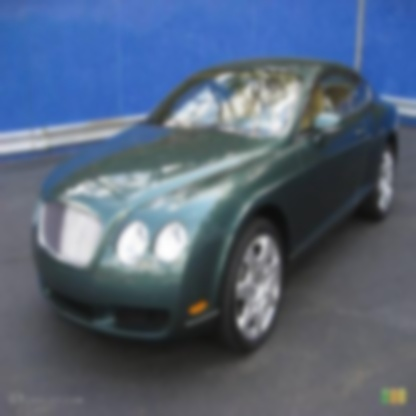Vehicle: (29, 55, 403, 351)
